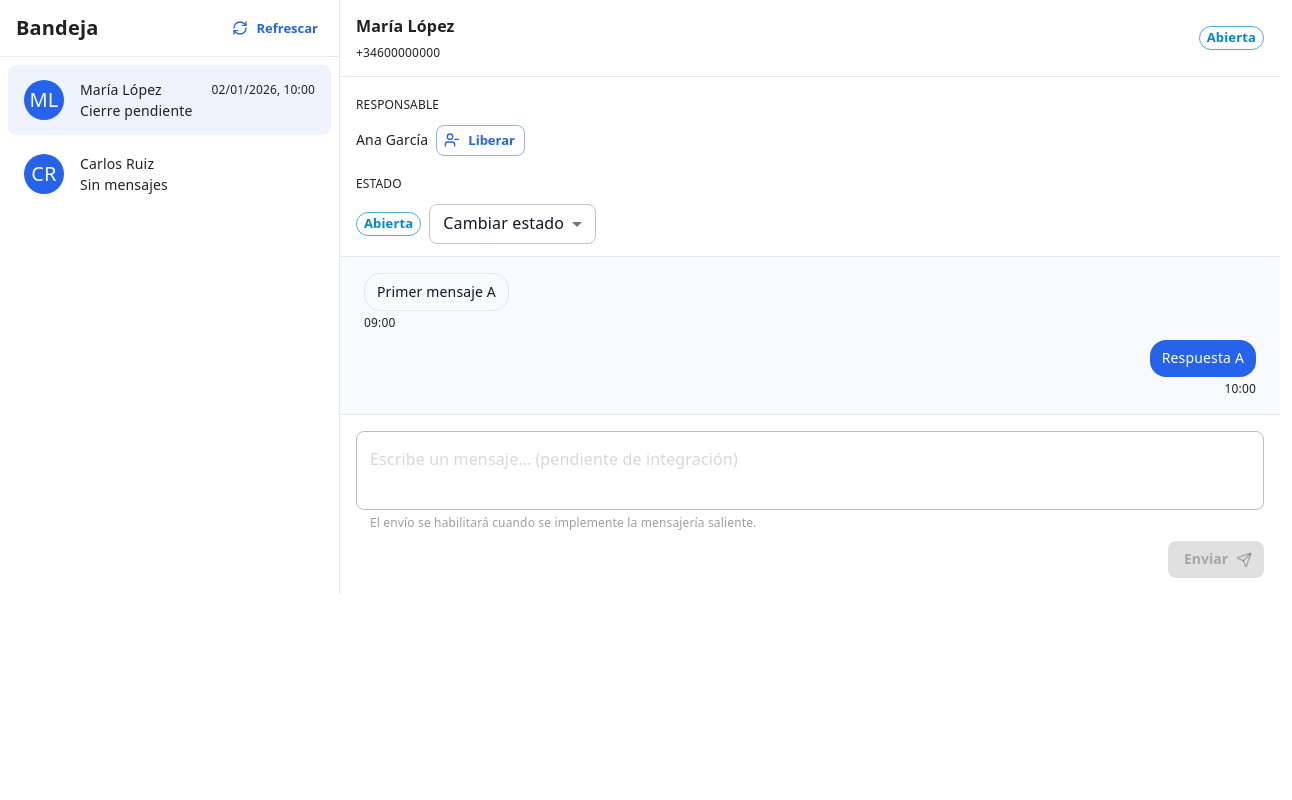
Test: InboxPage · acciones T09 › libera una conversación asignada al usuario actual
Check: the text "Primer mensaje A" is shown, box [377,282,496,302]
What coordinates should you click on to do the following:
click the button "Liberar"
I would click on:
 (481, 140)
Its box is [436,125,525,156].
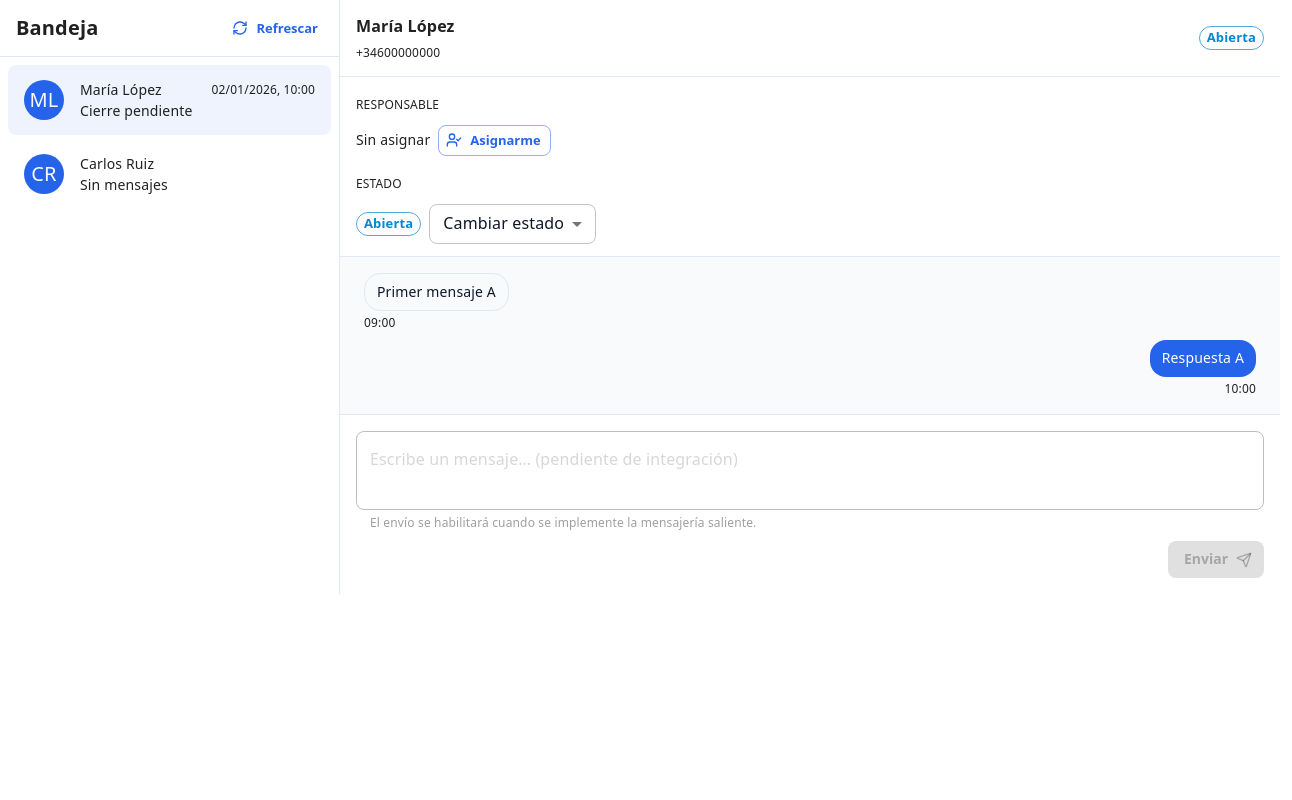
Check: the button "Asignarme" is shown, box [438,125,551,156]
Check: the text "Sin asignar" is shown, box [356,130,430,150]
